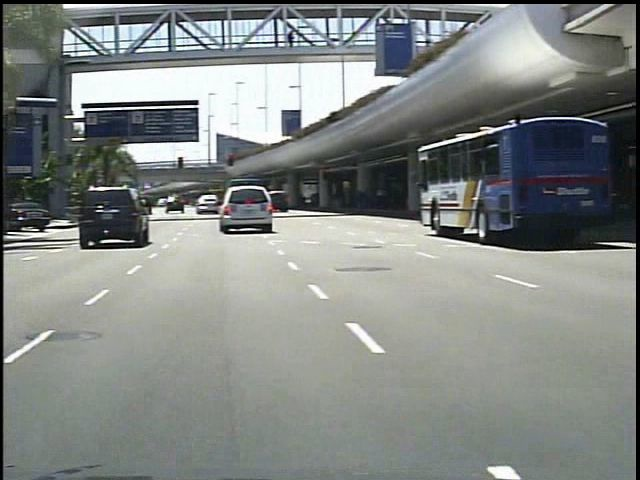person: (272, 28, 291, 54)
